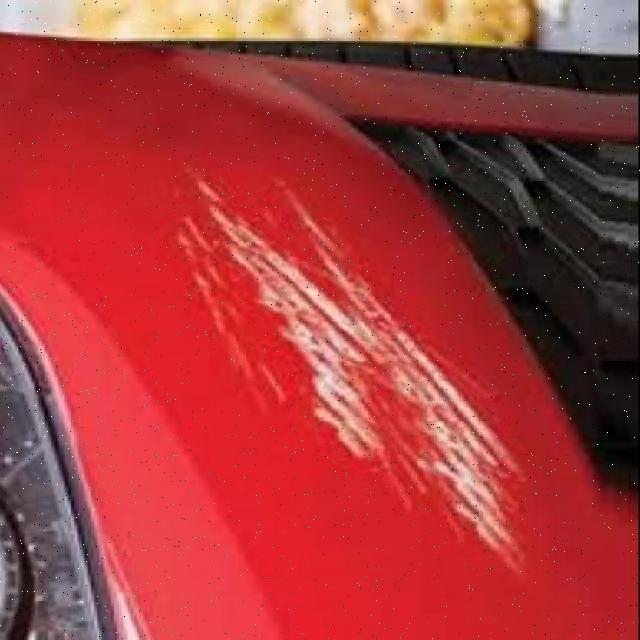damage: (181, 166, 531, 583)
